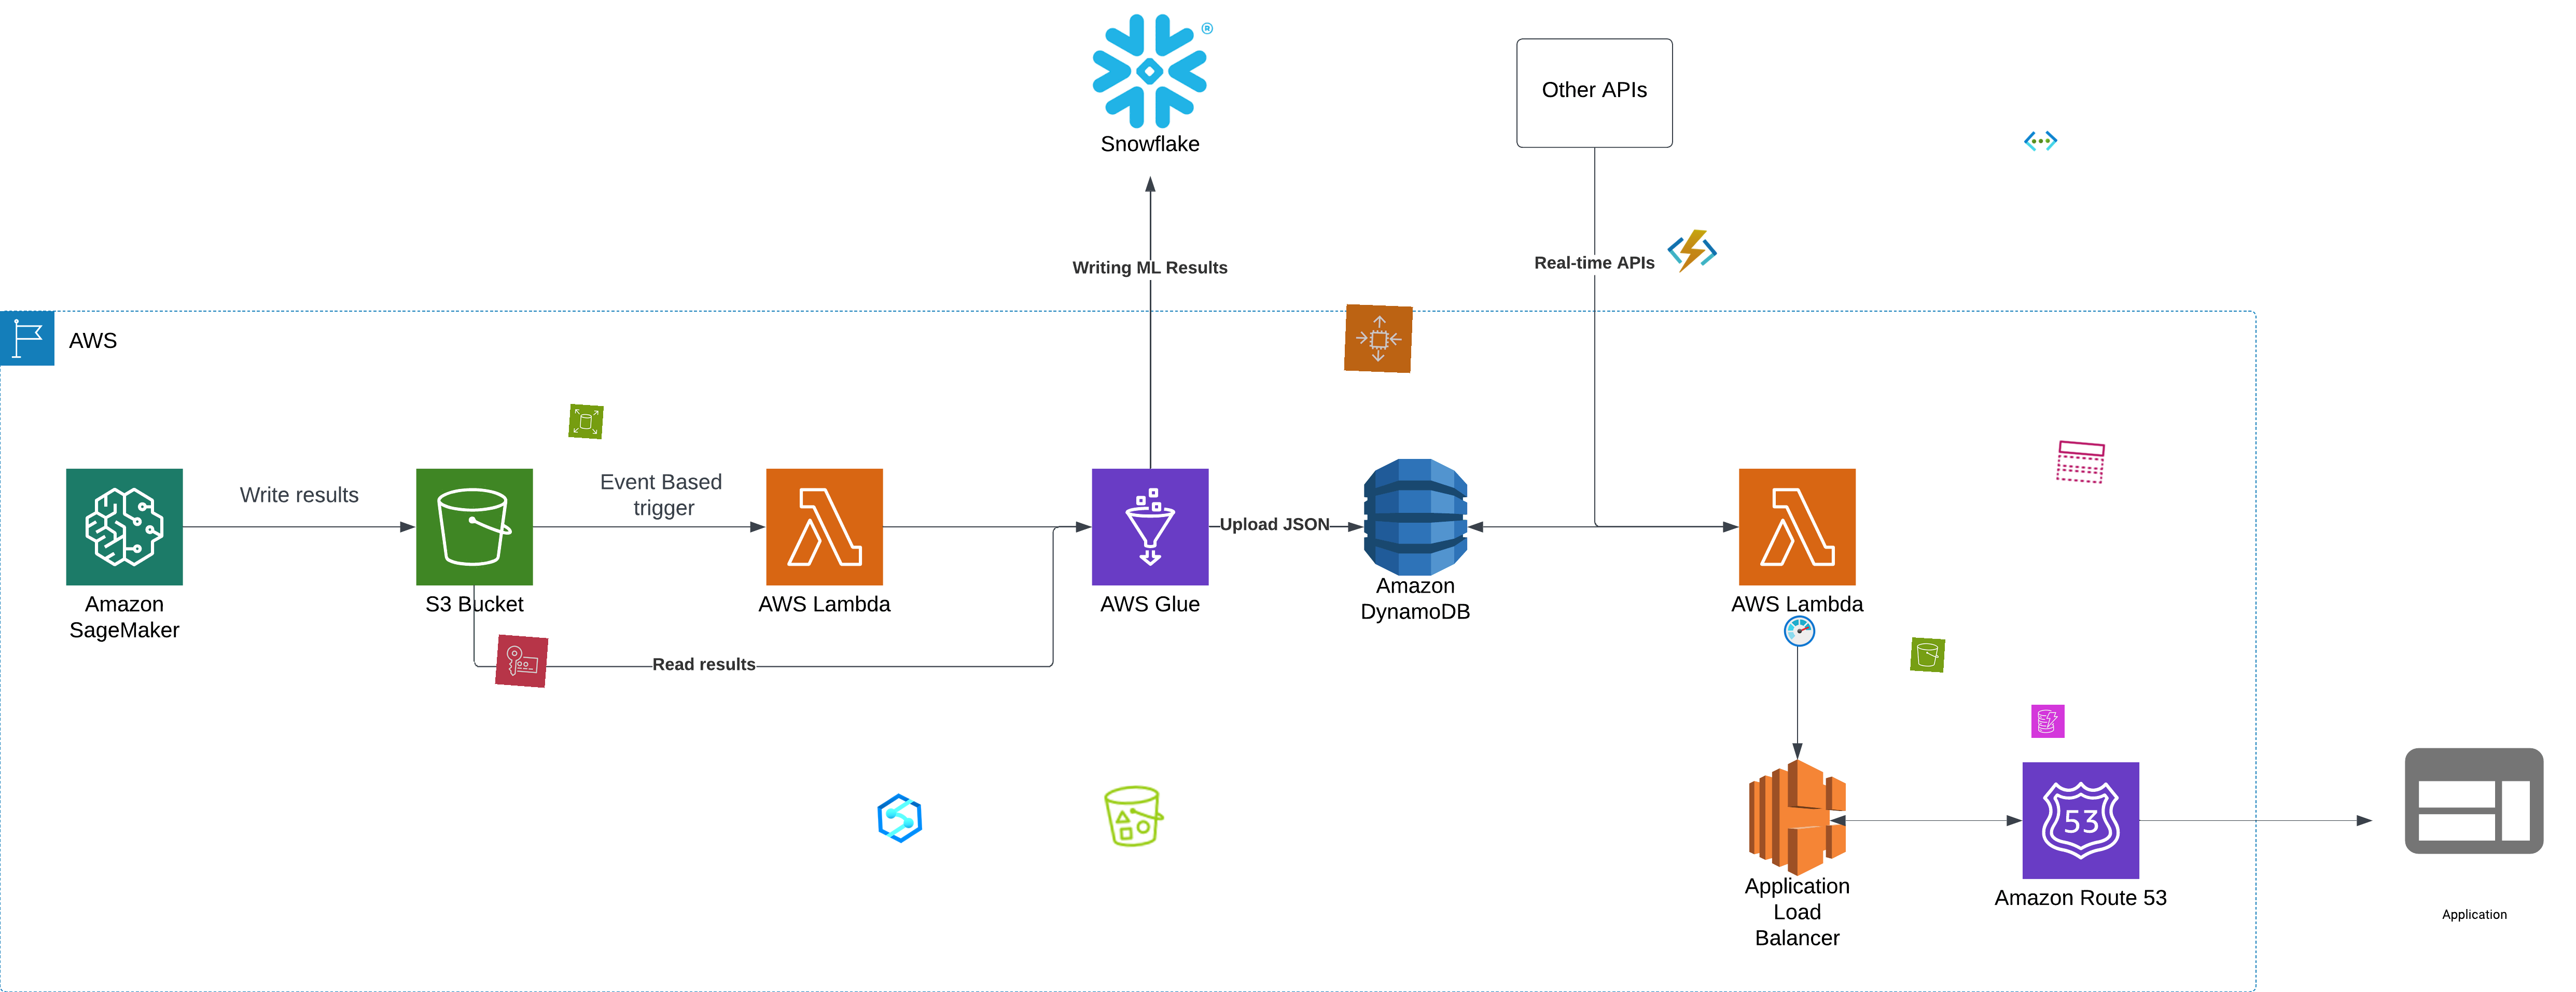aws_amazon_dynamodb: (2031, 705, 2065, 739)
aws_amazon_ec2_auto_scaling: (1344, 304, 1413, 373)
aws_amazon_elastic_block_store: (568, 404, 605, 440)
aws_amazon_simple_storage_service: (1911, 637, 1945, 673)
aws_key_management_service: (494, 634, 549, 688)
aws_simple_notification_service_topic: (2054, 435, 2108, 489)
aws_simple_storage_service_bucket_with_objects: (1099, 780, 1170, 852)
azure_function_apps: (1666, 225, 1718, 279)
azure_monitor: (1783, 614, 1817, 649)
azure_synapse_analytics: (874, 792, 927, 844)
azure_virtual_networks: (2022, 123, 2058, 159)
